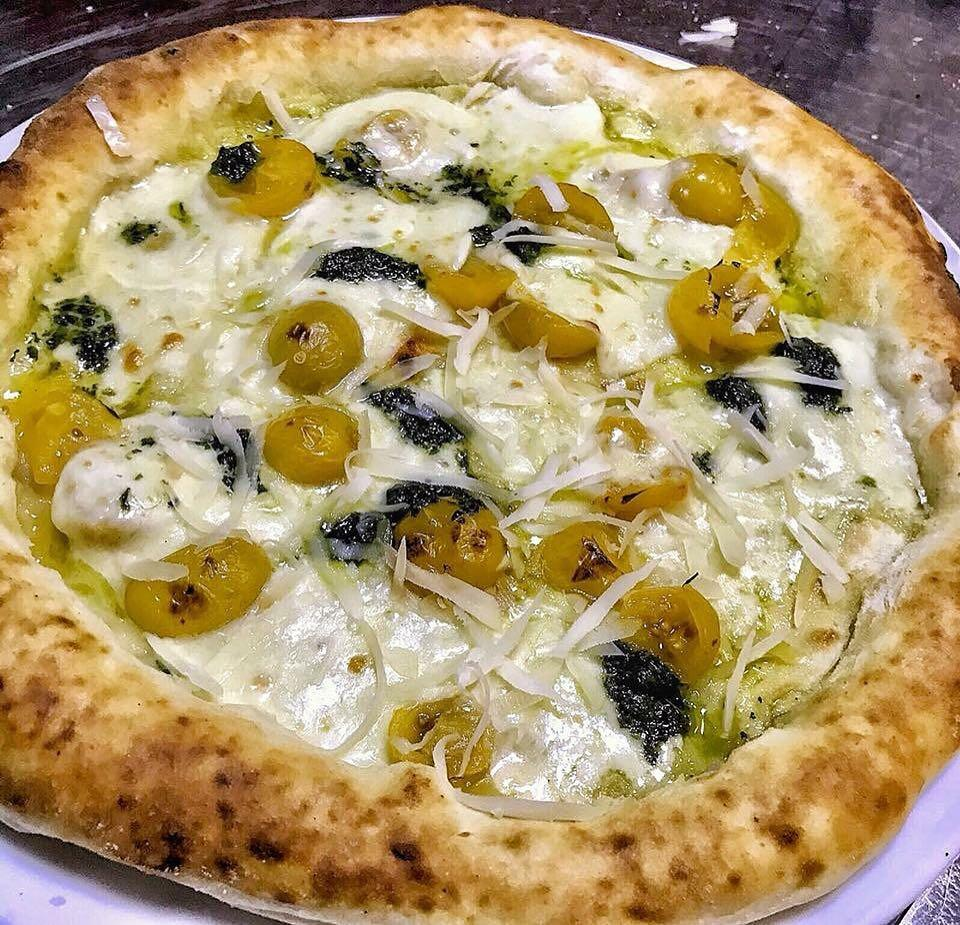Onion: (439, 574, 620, 700), (312, 547, 395, 768), (431, 751, 649, 815), (154, 421, 264, 531), (371, 284, 502, 366), (439, 366, 606, 423), (729, 402, 810, 510), (124, 252, 325, 294), (681, 454, 745, 572), (512, 449, 615, 506), (784, 499, 850, 579), (477, 223, 615, 261), (611, 167, 678, 220), (596, 247, 693, 282)
Peppers: (122, 538, 270, 635), (396, 484, 512, 590), (12, 368, 121, 477), (596, 410, 695, 510), (671, 265, 783, 353), (624, 590, 725, 683), (267, 301, 366, 394), (396, 697, 491, 788), (267, 407, 371, 488), (213, 133, 319, 210), (535, 526, 634, 598), (514, 177, 617, 246), (427, 251, 518, 317), (667, 151, 751, 220), (515, 295, 600, 363)
Pizza: (0, 0, 960, 925)
